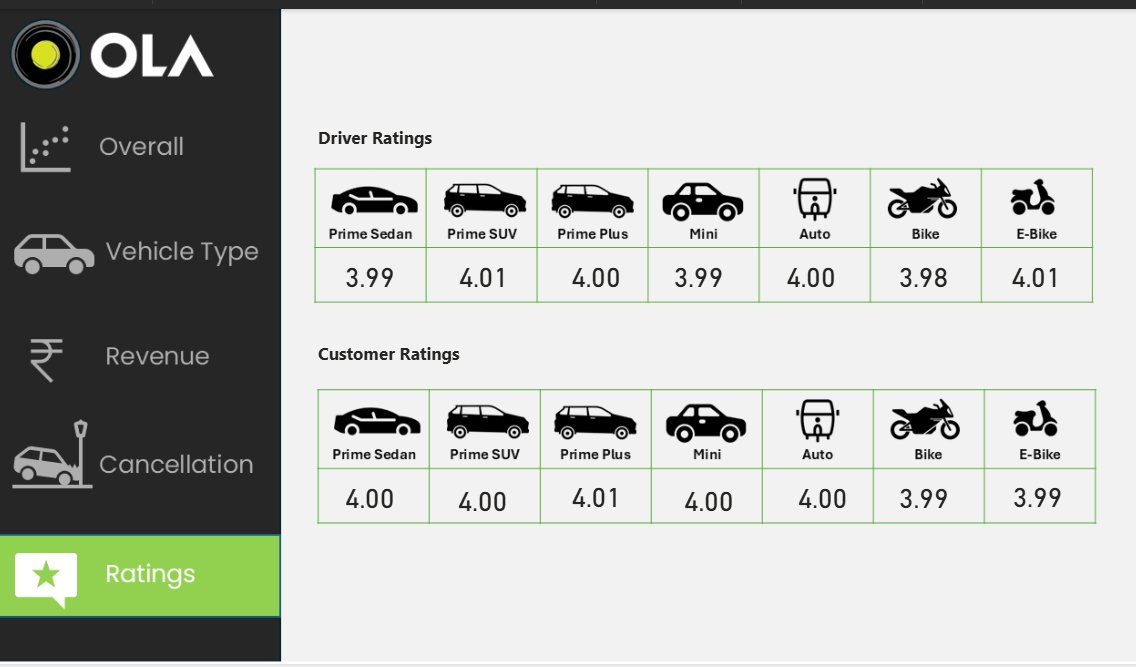

This screenshot's page, from the dashboard's own definition file:
{"tool":"powerbi","page":{"name":"Ratings","canvas":[1280,720],"ordinal":4},"visuals":[{"type":"actionButton","box":[0,231.9,323.9,92],"z":0},{"type":"actionButton","box":[0,117.8,325.2,92],"z":1000},{"type":"actionButton","box":[0,338.7,323.9,92],"z":2000},{"type":"actionButton","box":[0,444.2,323.9,92],"z":3000},{"type":"card","fields":{"Values":["Avg(Bookings.Driver_Ratings)"]},"box":[360,263.9,123.8,58.6],"z":4000},{"type":"card","fields":{"Values":["Avg(Bookings.Driver_Ratings)"]},"box":[483.8,263.9,123.8,58.6],"z":5000},{"type":"card","fields":{"Values":["Avg(Bookings.Driver_Ratings)"]},"box":[607.6,263.9,123.8,58.6],"z":6000},{"type":"card","fields":{"Values":["Avg(Bookings.Driver_Ratings)"]},"box":[720,263.9,123.8,58.6],"z":7000},{"type":"card","fields":{"Values":["Avg(Bookings.Driver_Ratings)"]},"box":[843.8,263.9,123.8,58.6],"z":8000},{"type":"card","fields":{"Values":["Avg(Bookings.Driver_Ratings)"]},"box":[967.6,263.9,123.8,58.6],"z":9000},{"type":"card","fields":{"Values":["Avg(Bookings.Driver_Ratings)"]},"box":[1091.4,263.9,123.8,58.6],"z":10000},{"type":"card","fields":{"Values":["Avg(Bookings.Customer_Rating)"]},"box":[360,506.6,123.8,58.6],"z":11000},{"type":"textbox","box":[359.5,123.5,144.1,39.8],"z":11001},{"type":"textbox","box":[359.5,360.9,174.3,48],"z":11002},{"type":"card","fields":{"Values":["Avg(Bookings.Customer_Rating)"]},"box":[483.1,508.6,124.4,59],"z":11003},{"type":"card","fields":{"Values":["Avg(Bookings.Customer_Rating)"]},"box":[607.5,505.4,124.4,59],"z":11004},{"type":"card","fields":{"Values":["Avg(Bookings.Customer_Rating)"]},"box":[731.8,508.6,124.4,59],"z":11005},{"type":"card","fields":{"Values":["Avg(Bookings.Customer_Rating)"]},"box":[856.2,507,124.4,59],"z":11006},{"type":"card","fields":{"Values":["Avg(Bookings.Customer_Rating)"]},"box":[967.8,507,124.4,59],"z":11007},{"type":"card","fields":{"Values":["Avg(Bookings.Customer_Rating)"]},"box":[1092.2,505.4,124.4,59],"z":11008}]}

Visuals, with their boxes on the page's 1280x720 design canvas (x1, y1, x2, y2). These are canvas units, not pixel positions in the 1136x667 screenshot, which may show the page scaled, cropped or inside an application window:
actionButton: 0, 232, 324, 324
actionButton: 0, 118, 325, 210
actionButton: 0, 339, 324, 431
actionButton: 0, 444, 324, 536
card - Avg(Bookings.Driver_Ratings): 360, 264, 484, 322
card - Avg(Bookings.Driver_Ratings): 484, 264, 608, 322
card - Avg(Bookings.Driver_Ratings): 608, 264, 731, 322
card - Avg(Bookings.Driver_Ratings): 720, 264, 844, 322
card - Avg(Bookings.Driver_Ratings): 844, 264, 968, 322
card - Avg(Bookings.Driver_Ratings): 968, 264, 1091, 322
card - Avg(Bookings.Driver_Ratings): 1091, 264, 1215, 322
card - Avg(Bookings.Customer_Rating): 360, 507, 484, 565
textbox: 360, 124, 504, 163
textbox: 360, 361, 534, 409
card - Avg(Bookings.Customer_Rating): 483, 509, 608, 568
card - Avg(Bookings.Customer_Rating): 608, 505, 732, 564
card - Avg(Bookings.Customer_Rating): 732, 509, 856, 568
card - Avg(Bookings.Customer_Rating): 856, 507, 981, 566
card - Avg(Bookings.Customer_Rating): 968, 507, 1092, 566
card - Avg(Bookings.Customer_Rating): 1092, 505, 1217, 564
